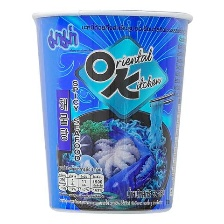paper_cup: (27, 2, 197, 218)
